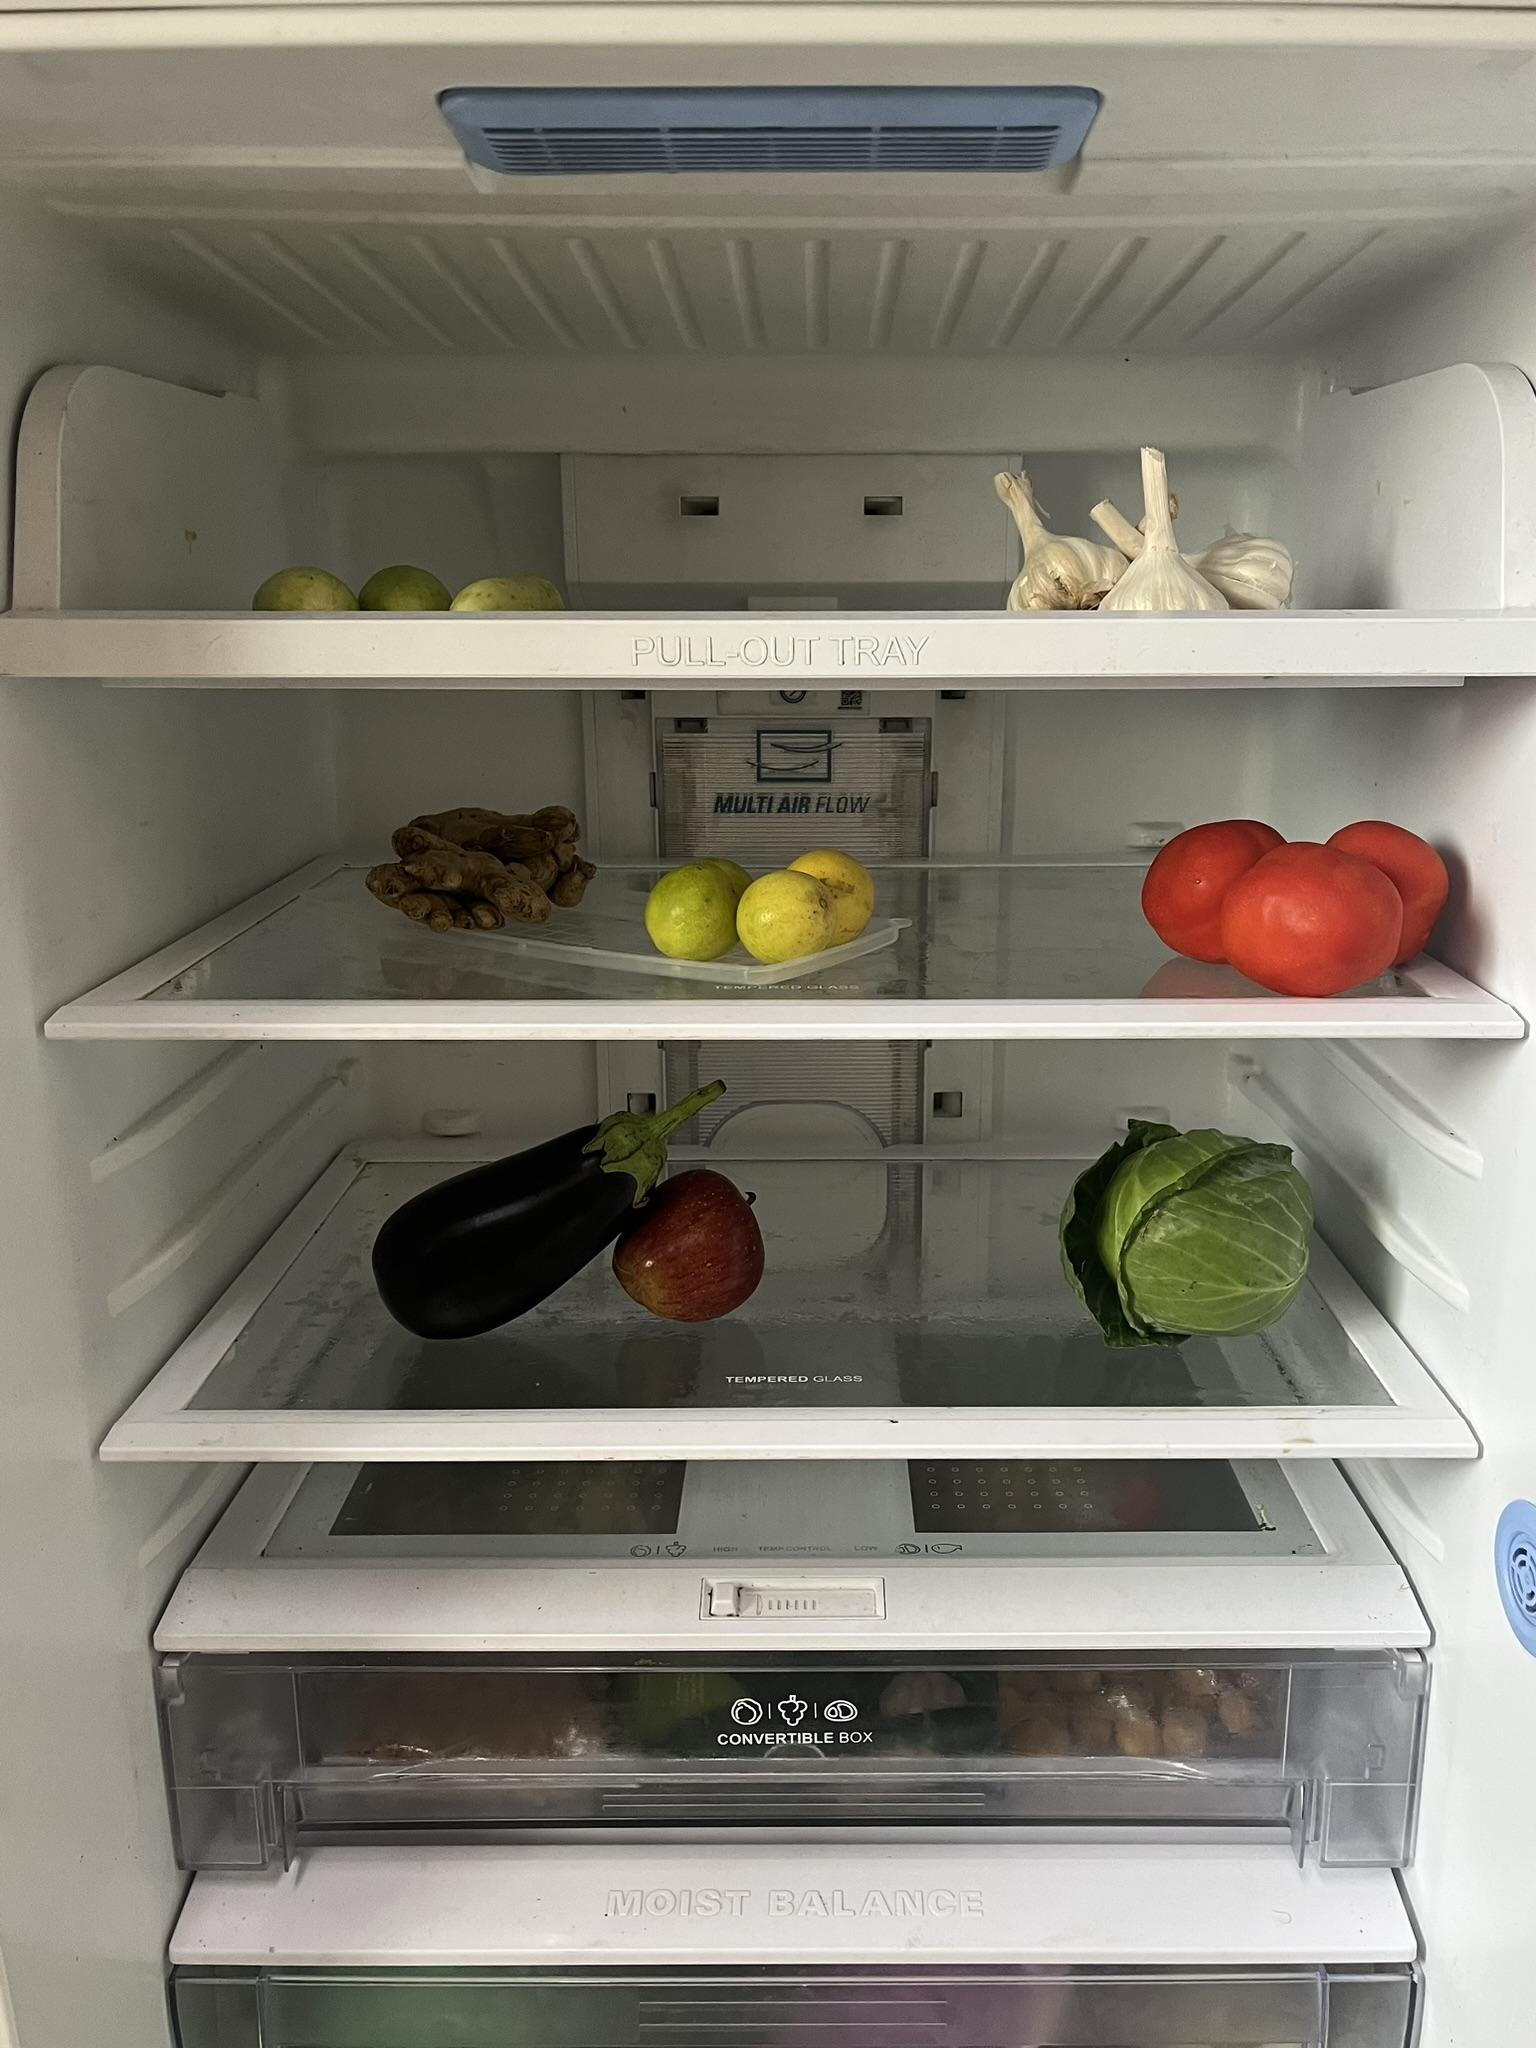apple: (611, 1163, 765, 1329)
bringal: (368, 1077, 733, 1348)
cabbage: (1055, 1114, 1325, 1348)
cucumber: (248, 548, 576, 614)
garlic: (984, 447, 1297, 610)
ginger: (365, 800, 603, 939)
lemon: (644, 842, 884, 966)
tomato: (1137, 814, 1459, 998)
